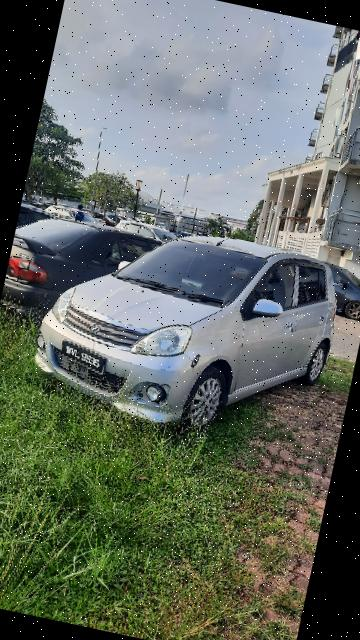License_Plate: (55, 340, 115, 379)
car: (17, 195, 357, 454), (1, 195, 207, 352)
